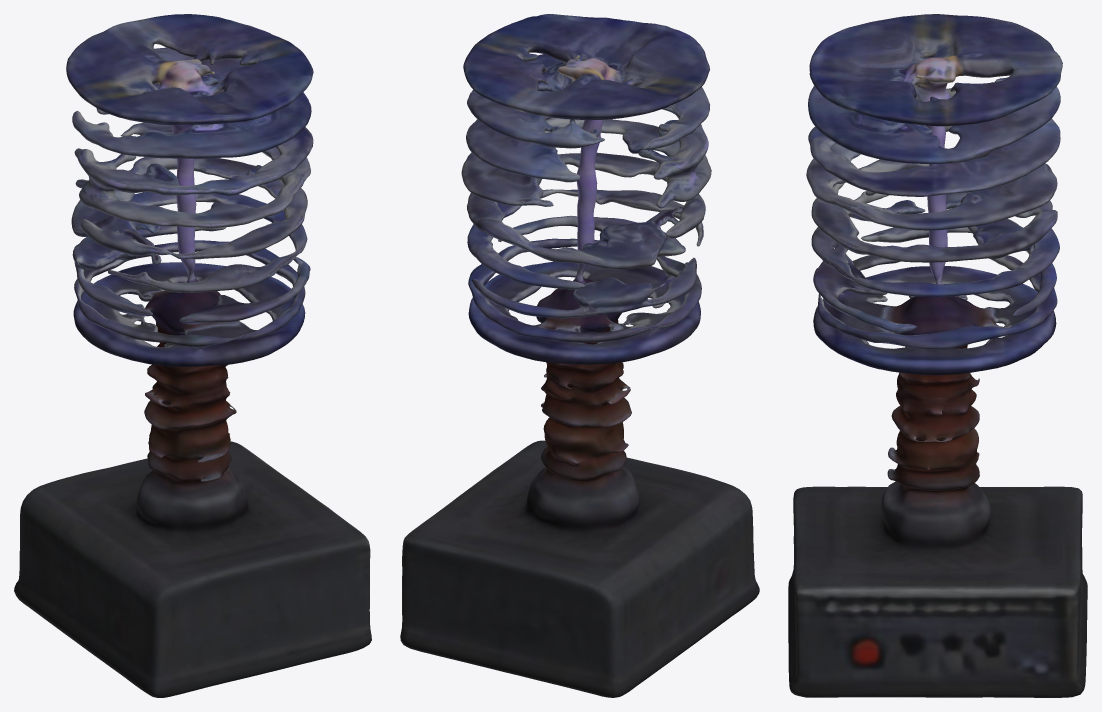
The model's file is ae336e8acadc_tesla_coil__3d_asse.fbx.
3 views of the same model, side by side, from view 1: azimuth 30°, elevation 25°; view 2: azimuth 150°, elevation 25°; view 3: azimuth 270°, elevation 25° (orthographic). The views are drawn at different scales.
Parts seen in each view (by area): view 1: high_poly; view 2: high_poly; view 3: high_poly.
Part boxes in pixels (left/top/right/bottom): high_poly: left=14, top=14, right=371, bottom=697; high_poly: left=400, top=14, right=759, bottom=697; high_poly: left=788, top=14, right=1087, bottom=697.
Bounding box in the file's own units: 41.84 × 100 × 46.88.
